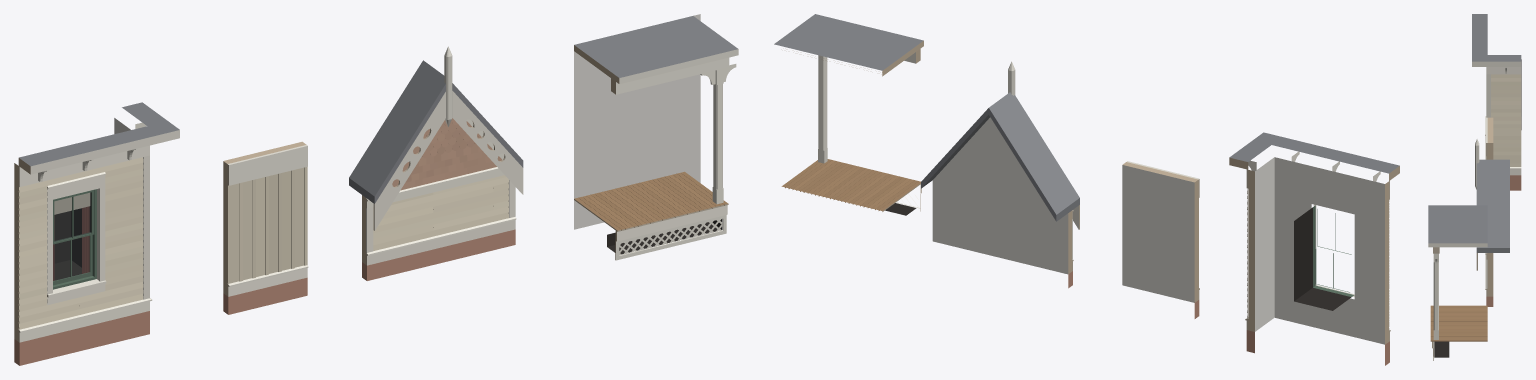
File: k16_timber_kit.glb
3 renders of one model, left to right at view 1: azimuth 30°, elevation 25°; view 2: azimuth 150°, elevation 25°; view 3: azimuth 270°, elevation 25°, orthographic. The views are drawn at different scales.
Parts seen in each view (by area): view 1: k16.porch.lattice_post, k16.wall.clapboard_corner, k16.gable.gothic_shingle, k16.wall.board_and_batten; view 2: k16.wall.clapboard_corner, k16.gable.gothic_shingle, k16.porch.lattice_post, k16.wall.board_and_batten; view 3: k16.porch.lattice_post, k16.wall.clapboard_corner, k16.gable.gothic_shingle, k16.wall.board_and_batten.
Boxes of the visible parts, <box> form: k16.porch.lattice_post: <box>574,14,738,260</box>; k16.wall.clapboard_corner: <box>14,102,179,365</box>; k16.gable.gothic_shingle: <box>349,46,523,280</box>; k16.wall.board_and_batten: <box>223,141,308,314</box>; k16.wall.clapboard_corner: <box>1229,132,1399,365</box>; k16.gable.gothic_shingle: <box>921,61,1079,288</box>; k16.porch.lattice_post: <box>774,14,923,215</box>; k16.wall.board_and_batten: <box>1122,161,1199,318</box>; k16.porch.lattice_post: <box>1428,205,1487,360</box>; k16.wall.clapboard_corner: <box>1472,14,1521,190</box>; k16.gable.gothic_shingle: <box>1475,139,1509,306</box>; k16.wall.board_and_batten: <box>1486,117,1493,159</box>.
Size of the model in its own units: 13.78 by 4.29 by 2.5.
